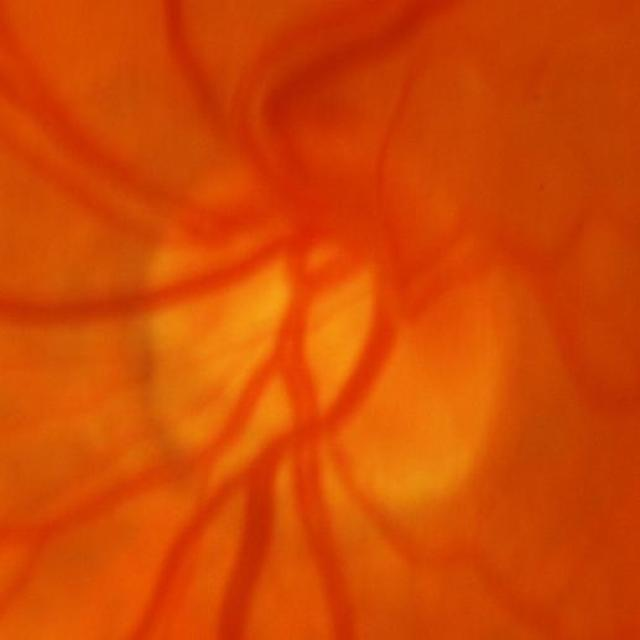OC: (238, 243, 387, 385)
OD: (147, 164, 498, 514)
